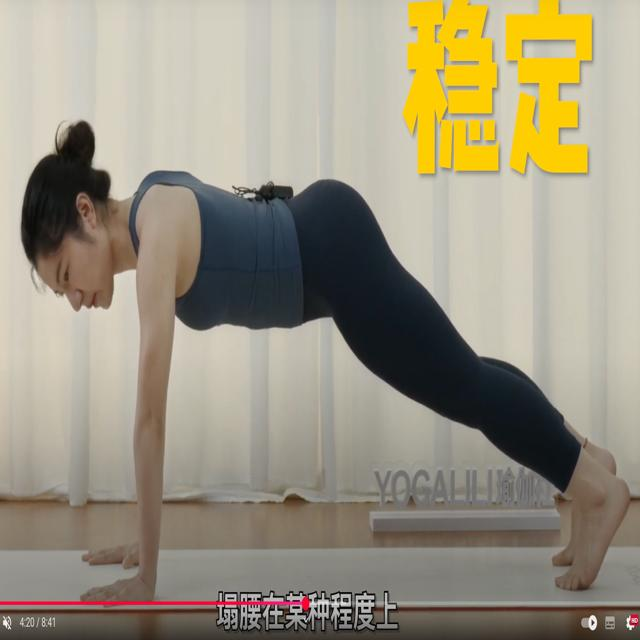Plank_Pose: (18, 97, 633, 609)
